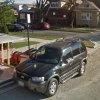Car: (14, 34, 91, 93)
